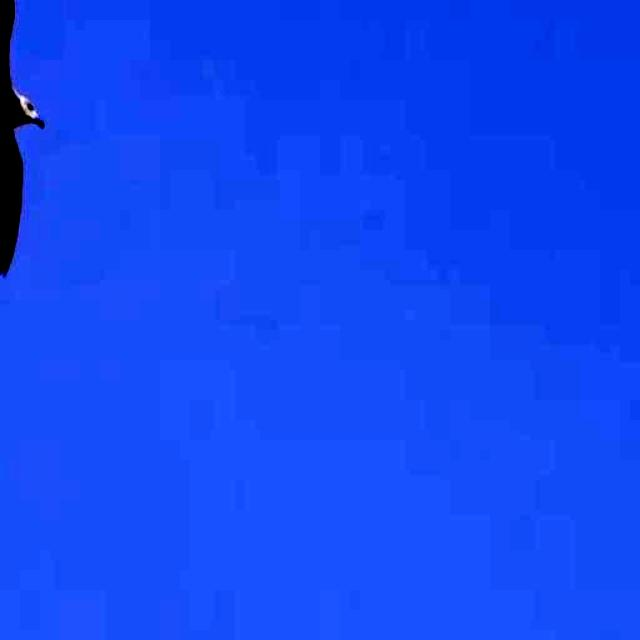airplane: (0, 0, 44, 280)
